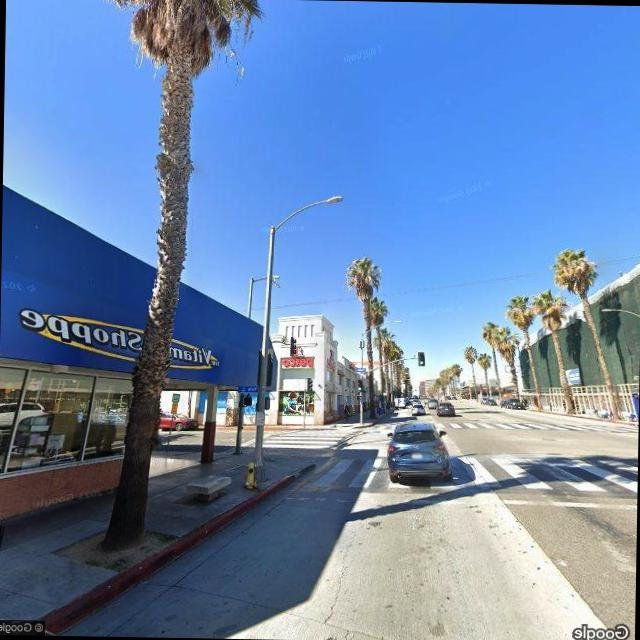pothole: (322, 520, 360, 629)
